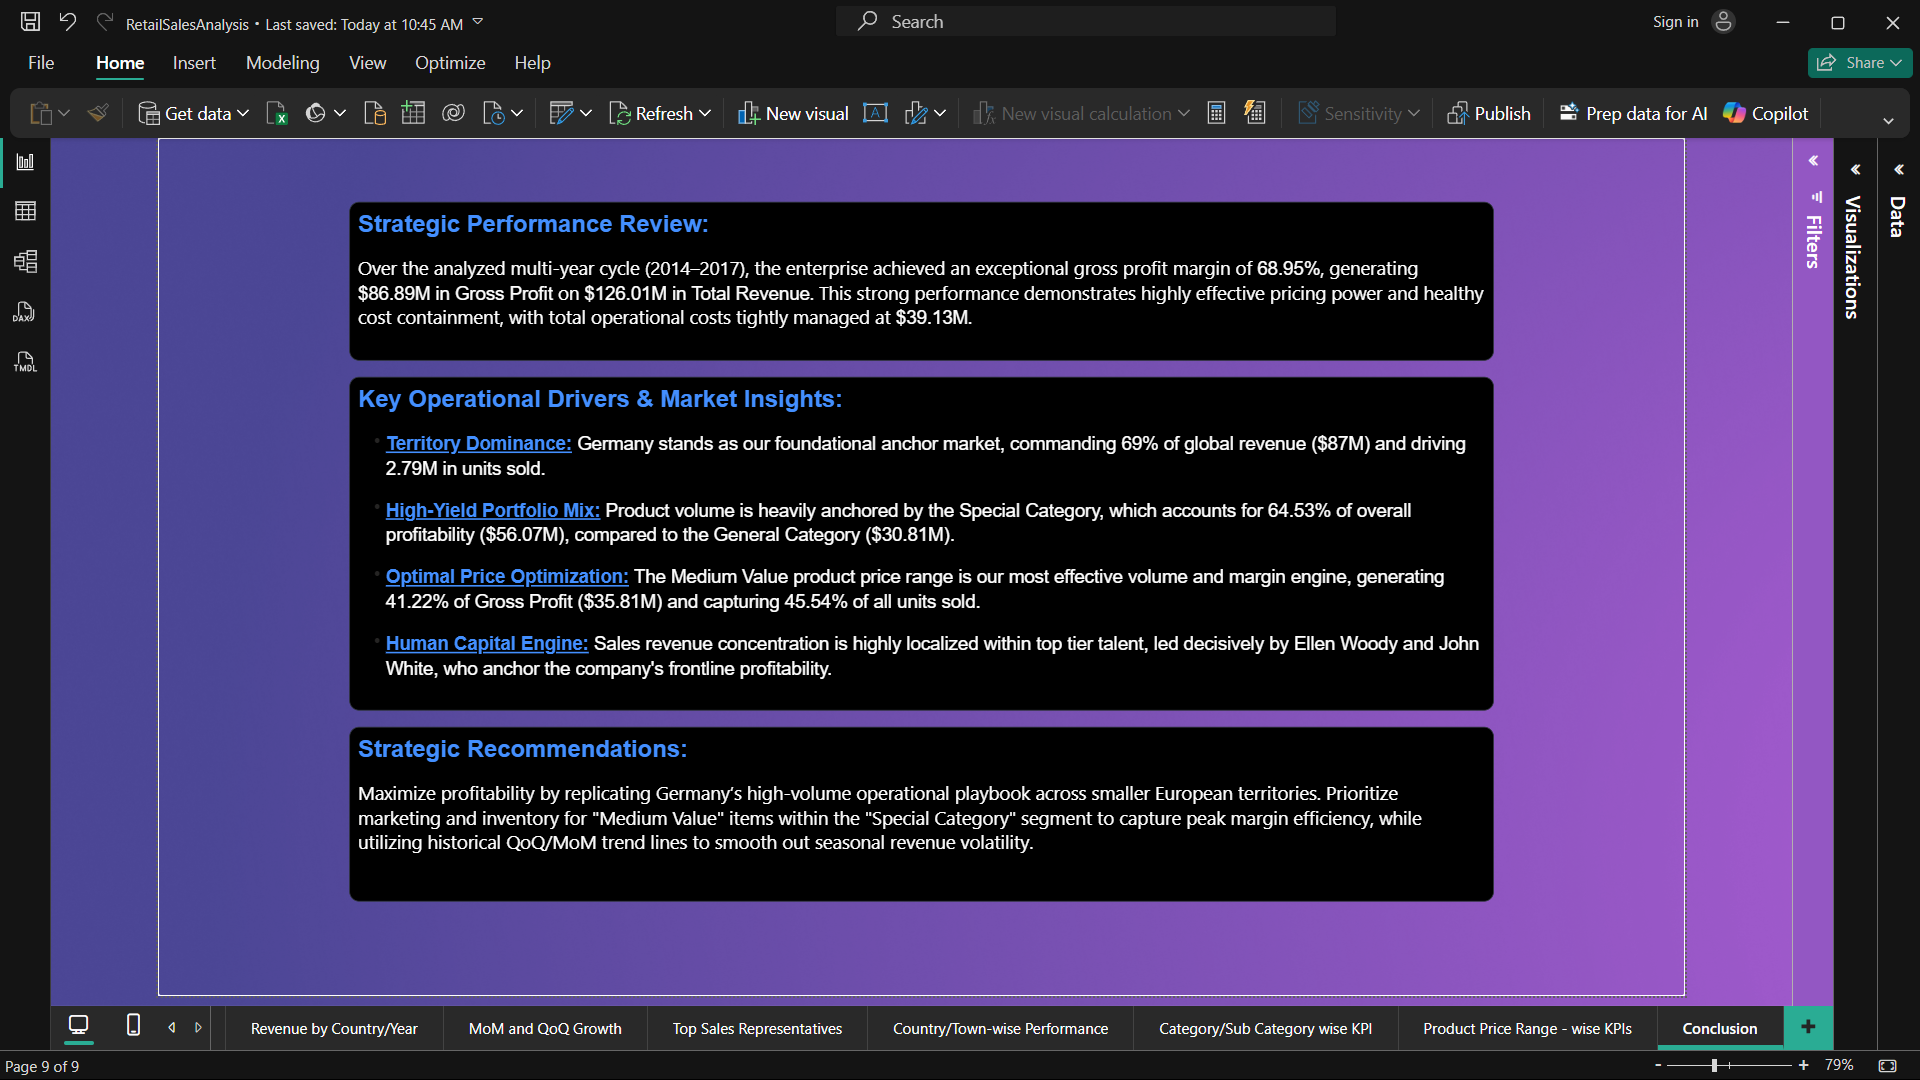

What the dashboard file says about the page in this screenshot:
{"tool":"powerbi","page":{"name":"Conclusion","canvas":[1536,864],"ordinal":8},"visuals":[{"type":"textbox","box":[192,64,1152,160],"z":0},{"type":"textbox","box":[192,240,1152,336],"z":1000},{"type":"textbox","box":[192,592,1152,176],"z":2000}]}

Visuals, with their boxes on the page's 1536x864 design canvas (x1, y1, x2, y2). These are canvas units, not pixel positions in the 1920x1080 screenshot, which may show the page scaled, cropped or inside an application window:
textbox: locate(192, 64, 1344, 224)
textbox: locate(192, 240, 1344, 576)
textbox: locate(192, 592, 1344, 768)
